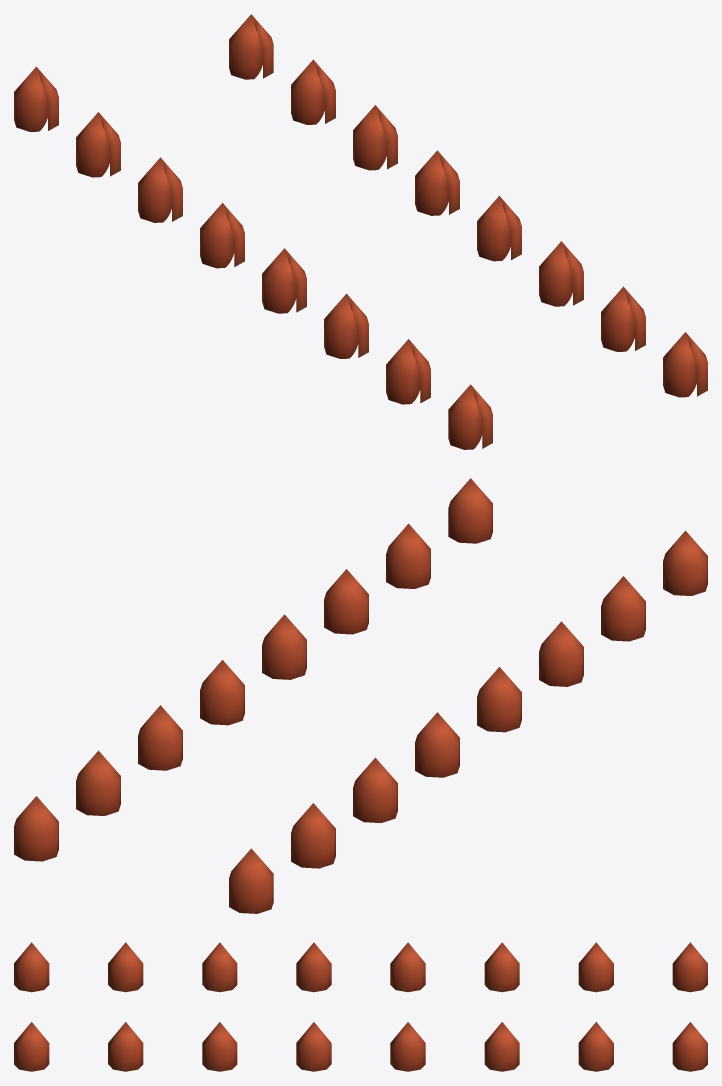
Rendered from ammo_press_bullets_world.obj.
The picture shows the model from 3 angles, top to bottom: view 1: azimuth 30°, elevation 25°; view 2: azimuth 150°, elevation 25°; view 3: azimuth 270°, elevation 25°; orthographic projection. The views are drawn at different scales.
Visible parts, largest first — view 1: Bullets; view 2: Bullets; view 3: Bullets.
Boxes of the visible parts, x1=… form: Bullets: x1=14, y1=14, x2=707, y2=449; Bullets: x1=14, y1=478, x2=707, y2=913; Bullets: x1=14, y1=942, x2=707, y2=1071.
Size of the model in its own units: 0.2969 by 0.0625 by 0.9219.
